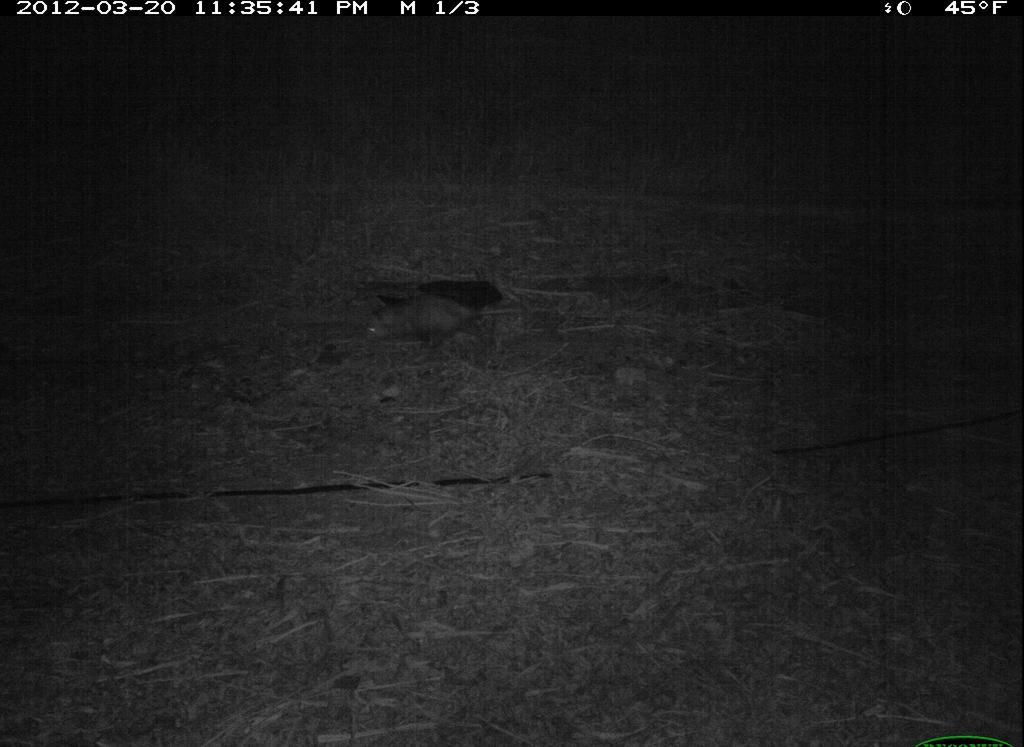opossum: (361, 285, 528, 360)
